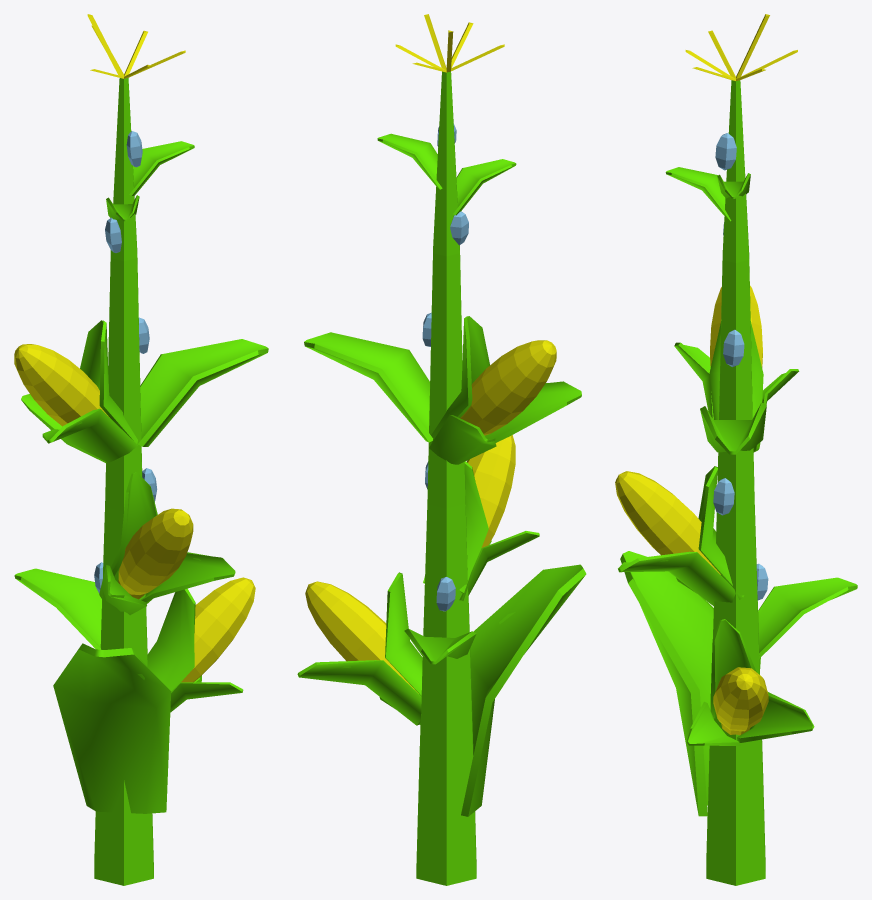
The model's file is Blighted_Corn_Stage_1.fbx.
3 views of the same model, side by side, from view 1: azimuth 30°, elevation 25°; view 2: azimuth 150°, elevation 25°; view 3: azimuth 270°, elevation 25° (orthographic).
Parts seen in each view (by area): view 1: Blighted_Corn_Stage_1; view 2: Blighted_Corn_Stage_1; view 3: Blighted_Corn_Stage_1.
Boxes of the visible parts, left/top/right/bottom form: Blighted_Corn_Stage_1: left=14, top=14, right=268, bottom=885; Blighted_Corn_Stage_1: left=297, top=14, right=586, bottom=885; Blighted_Corn_Stage_1: left=615, top=14, right=857, bottom=885.
Size of the model in its own units: 0.7638 by 2.48 by 0.6449.
